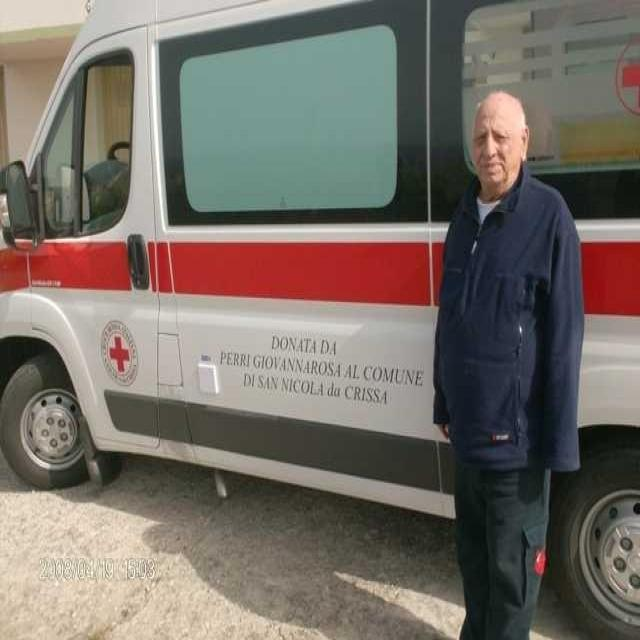emergency-vehicle: (1, 1, 238, 512)
